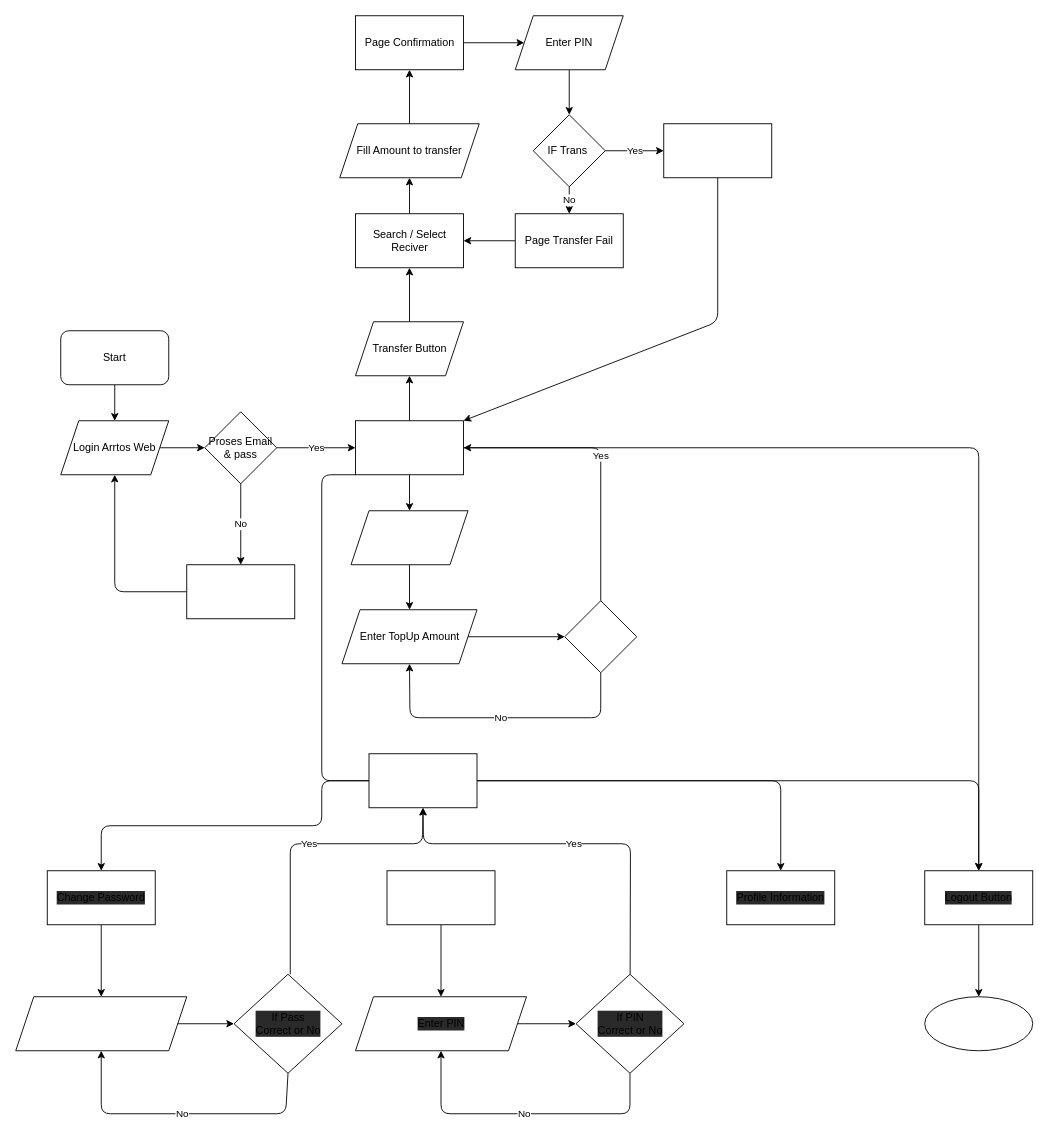
The diagram is 1049 pixels wide and 1137 high, and some of its shapes have lost their labels. Here are the shapes that lost their labels. From the top down, the box of each, then its label:
(663, 123, 772, 178): Page Transfer Success
(355, 420, 464, 475): Dasboard
(350, 510, 468, 565): Topup Button
(186, 564, 295, 619): Worng email or password
(564, 600, 637, 673): Proses Data
(368, 753, 477, 808): Profile Menu
(386, 870, 495, 925): Change Pin
(15, 996, 187, 1051): Enter Old, new, repat Password
(924, 996, 1033, 1051): END
